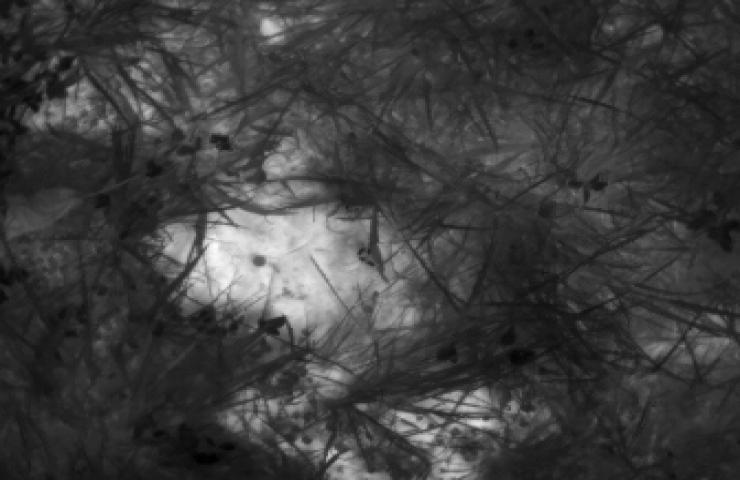landmines: (152, 190, 441, 344)
